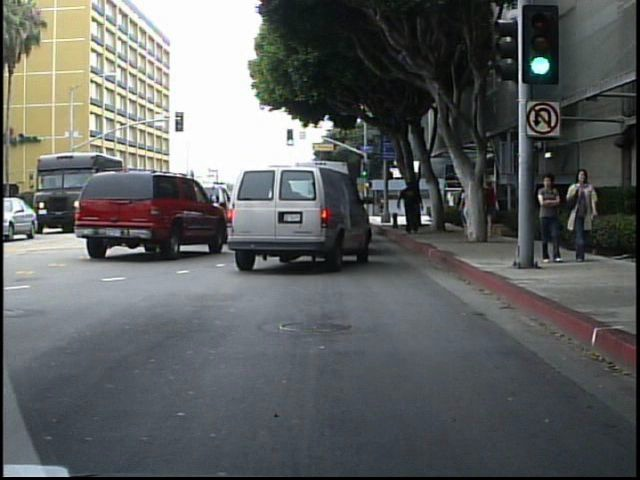person: (563, 165, 605, 269), (537, 170, 567, 268), (483, 172, 505, 242), (399, 181, 427, 236), (462, 177, 482, 247), (414, 186, 427, 219)
